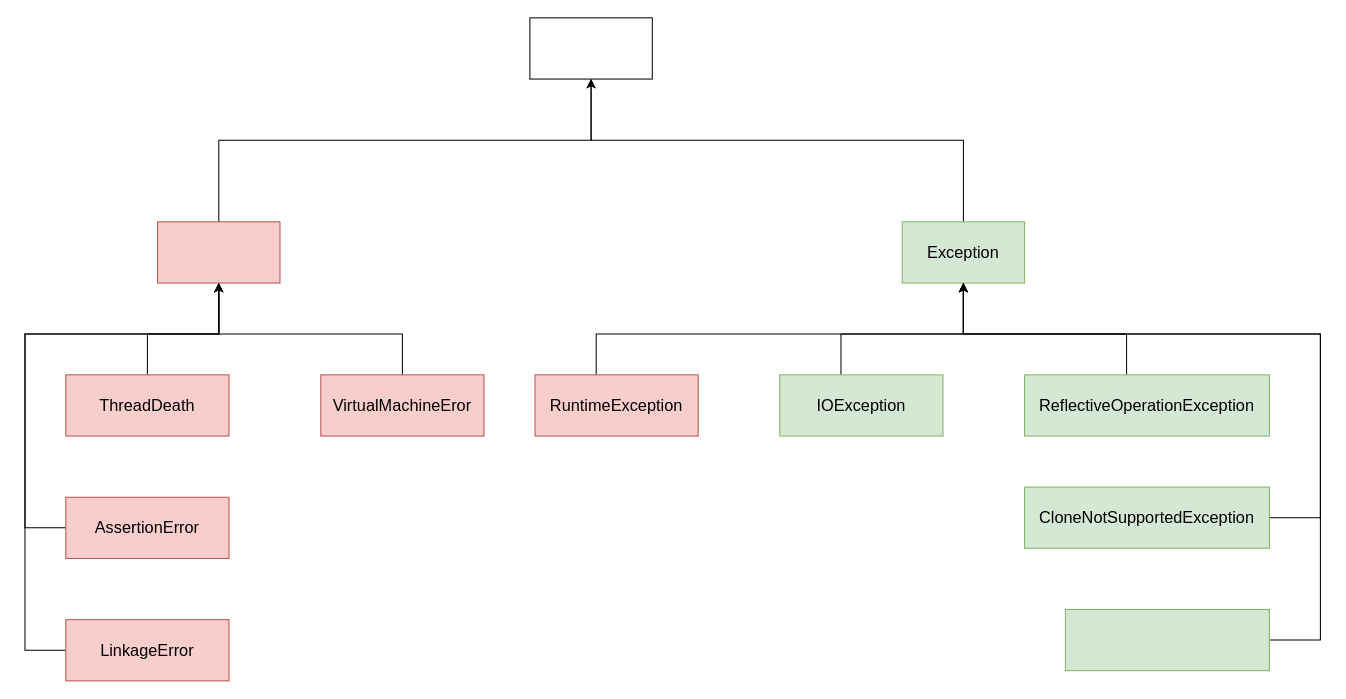
The diagram is 1346 pixels wide and 699 high, and some of its shapes have lost their labels. Each missing label, with the centre of its shape:
"Error" belongs at (218,252).
"InterruptedException" belongs at (1166,639).
"Throwable" belongs at (590,48).
